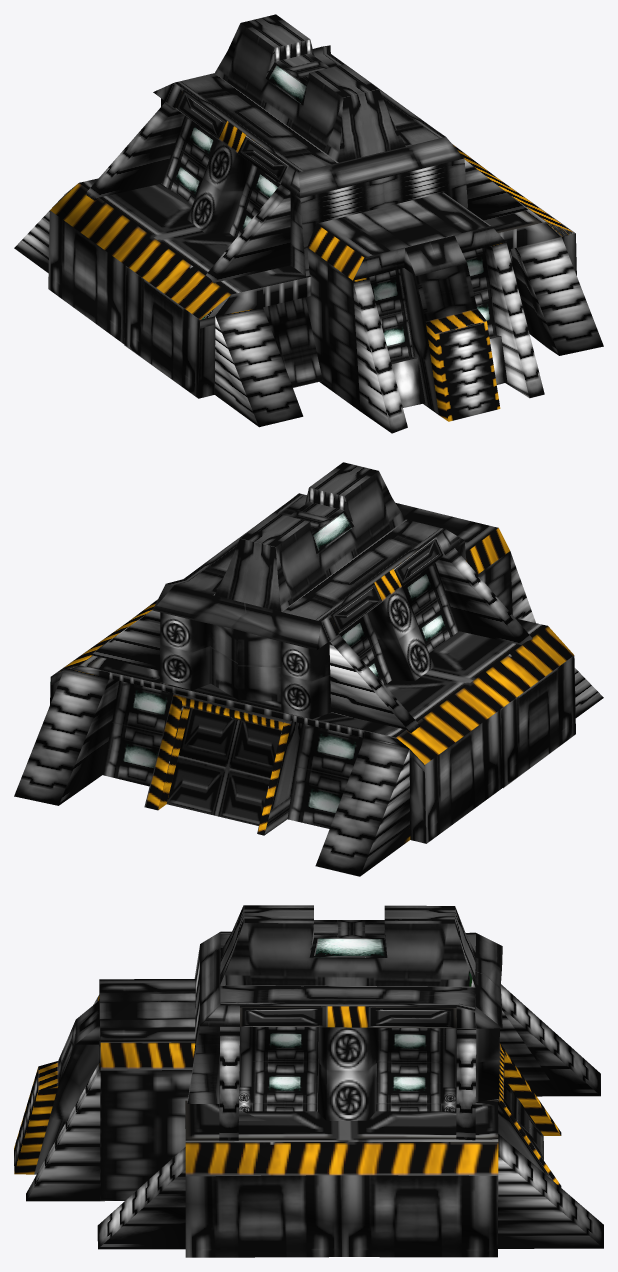
The model's file is Level Assets 1.fbx.
3 renders of one model, top to bottom at view 1: azimuth 30°, elevation 25°; view 2: azimuth 150°, elevation 25°; view 3: azimuth 270°, elevation 25°, orthographic. The views are drawn at different scales.
Parts seen in each view (by area): view 1: Cube.005; view 2: Cube.005; view 3: Cube.005.
Part boxes in pixels (<box>): Cube.005: <box>14,14,603,433</box>; Cube.005: <box>14,462,603,876</box>; Cube.005: <box>14,905,603,1257</box>.
Bounding box in the file's own units: 1325 × 815 × 1746.
